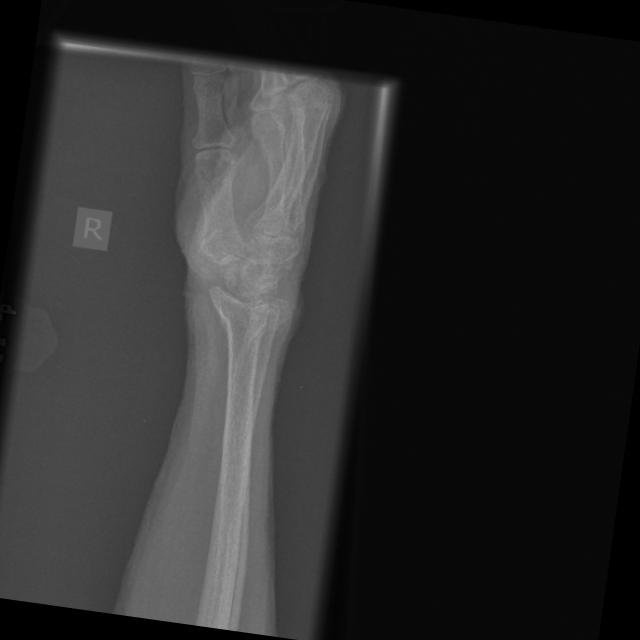fingers positive: (238, 309, 299, 345)
